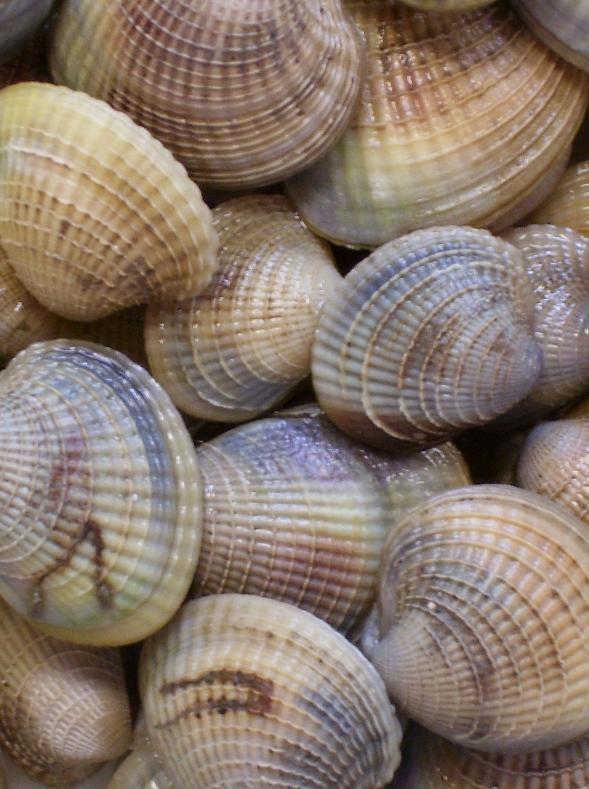cockle: (281, 1, 586, 258), (185, 395, 480, 641), (2, 339, 208, 653), (361, 482, 589, 757), (46, 1, 368, 193), (302, 222, 548, 457), (1, 78, 220, 324), (136, 588, 404, 789), (141, 191, 338, 426), (1, 598, 130, 784), (501, 207, 589, 413), (401, 717, 589, 785), (517, 415, 589, 523), (1, 258, 72, 357), (512, 1, 589, 82)
